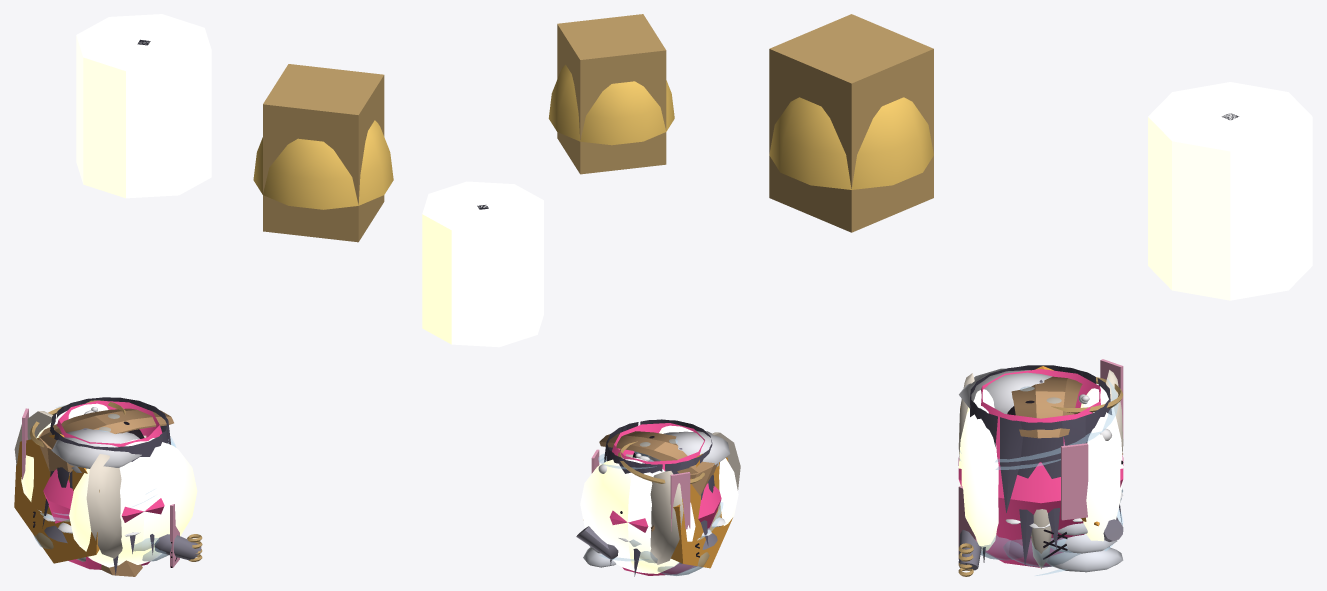
File: maitre-phare.glb
3 views of the same model, side by side, from view 1: azimuth 30°, elevation 25°; view 2: azimuth 150°, elevation 25°; view 3: azimuth 270°, elevation 25° (orthographic). The views are drawn at different scales.
Parts seen in each view (by area): view 1: maitre_phare_corps, maitre_phare_lanterne, maitre_phare_cloche; view 2: maitre_phare_corps, maitre_phare_lanterne, maitre_phare_cloche, maitre_phare_brume; view 3: maitre_phare_lanterne, maitre_phare_corps, maitre_phare_cloche, maitre_phare_brume.
Part boxes in pixels (x1,y1,x2,y2): maitre_phare_corps: (14, 397, 202, 576); maitre_phare_lanterne: (76, 14, 211, 198); maitre_phare_cloche: (253, 64, 393, 242); maitre_phare_corps: (576, 419, 740, 576); maitre_phare_lanterne: (422, 181, 543, 347); maitre_phare_cloche: (548, 14, 674, 174); maitre_phare_brume: (598, 453, 723, 561); maitre_phare_lanterne: (1148, 82, 1312, 300); maitre_phare_corps: (958, 359, 1123, 576); maitre_phare_cloche: (769, 14, 933, 232); maitre_phare_brume: (958, 379, 1123, 575).
Size of the model in its own units: 4.2 by 7.65 by 6.6.
